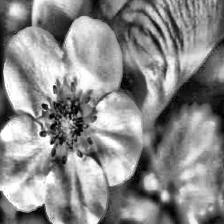Blossom Blight: (34, 76, 99, 165)
